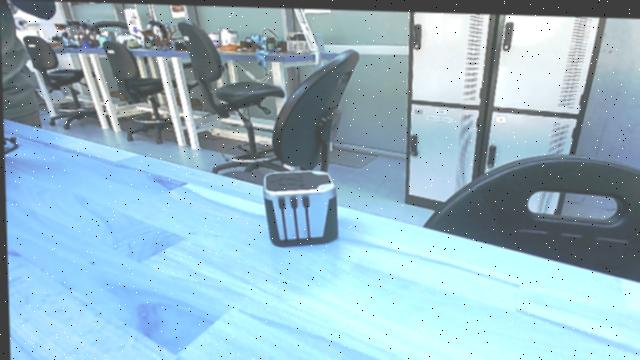adapter: (254, 166, 344, 249)
